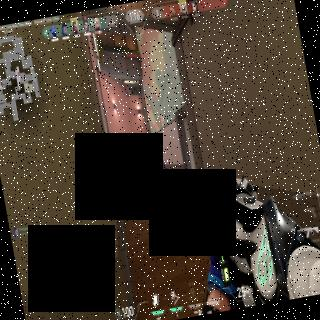ENEMY-BODY: (158, 152, 168, 180)
ENEMY-HEAD: (160, 152, 162, 156)
